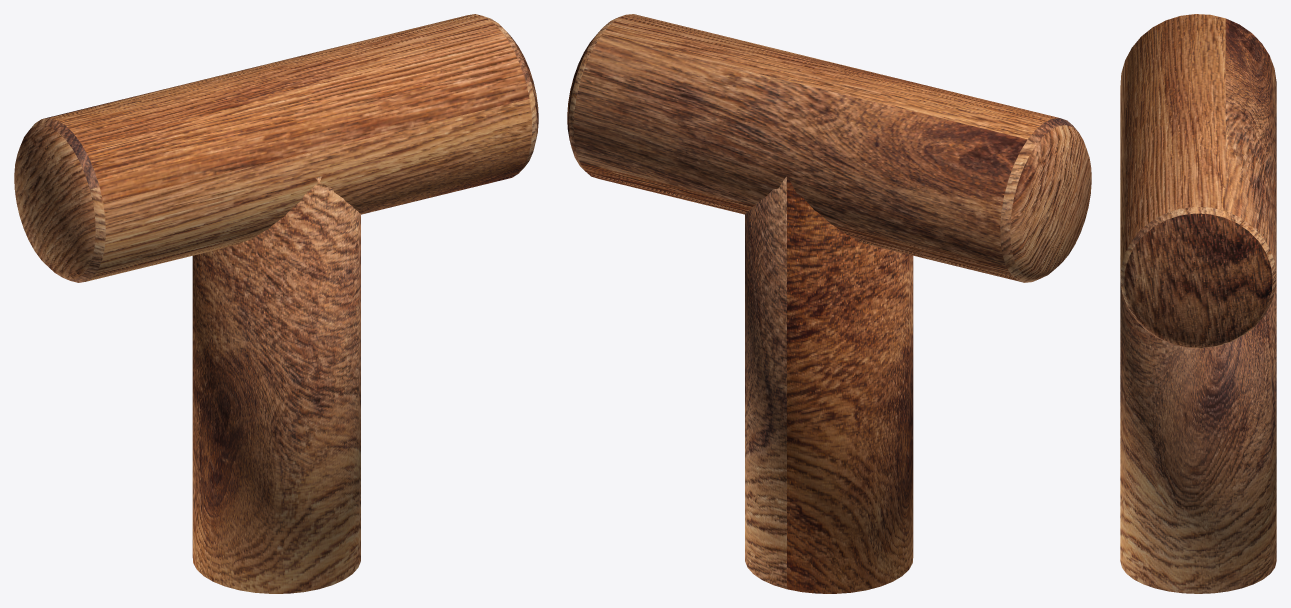
The model's file is Lever.fbx.
3 views of the same model, side by side, from view 1: azimuth 30°, elevation 25°; view 2: azimuth 150°, elevation 25°; view 3: azimuth 270°, elevation 25° (orthographic). The views are drawn at different scales.
Visible parts, largest first — view 1: Cylinder.001, Cylinder; view 2: Cylinder.001, Cylinder; view 3: Cylinder.001, Cylinder.
Part boxes in pixels (bbox=[...]): Cylinder.001: bbox=[14, 14, 538, 282]; Cylinder: bbox=[192, 175, 360, 593]; Cylinder.001: bbox=[567, 14, 1091, 282]; Cylinder: bbox=[745, 176, 913, 593]; Cylinder.001: bbox=[1120, 14, 1276, 348]; Cylinder: bbox=[1120, 178, 1276, 593].
Size of the model in its own units: 638 by 636 by 200.
